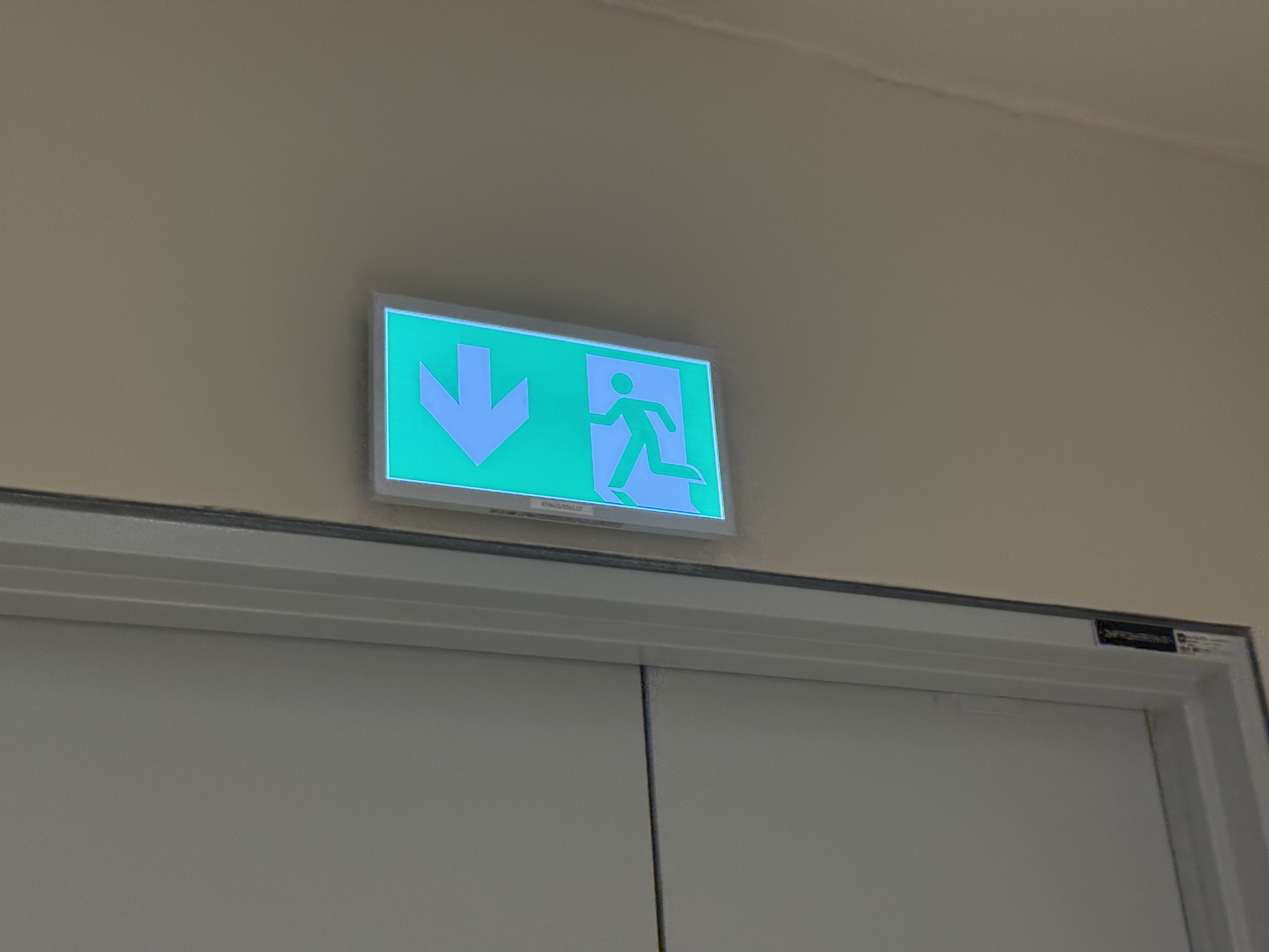emergency_exit: (365, 289, 739, 541)
